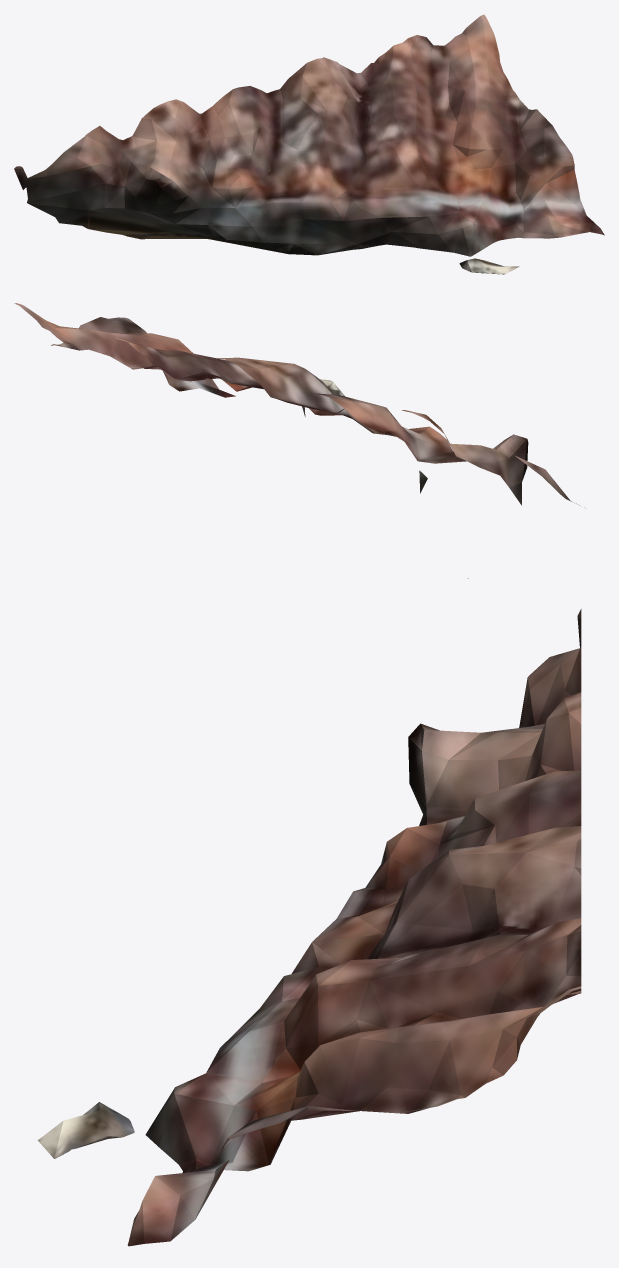
3 renders of one model, top to bottom at view 1: azimuth 30°, elevation 25°; view 2: azimuth 150°, elevation 25°; view 3: azimuth 270°, elevation 25°, orthographic. The views are drawn at different scales.
Bounding box in the file's own units: 1.28 × 0.3454 × 0.6414.
1 material, 1 textured.
